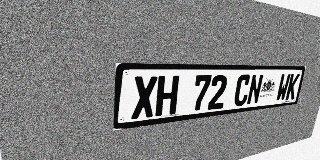2: (207, 75, 228, 110)
7: (190, 75, 212, 112)
C: (233, 74, 251, 107)
H: (155, 76, 179, 117)
K: (285, 74, 300, 100)
N: (246, 74, 264, 105)
W: (275, 74, 291, 102)
X: (131, 76, 158, 120)
